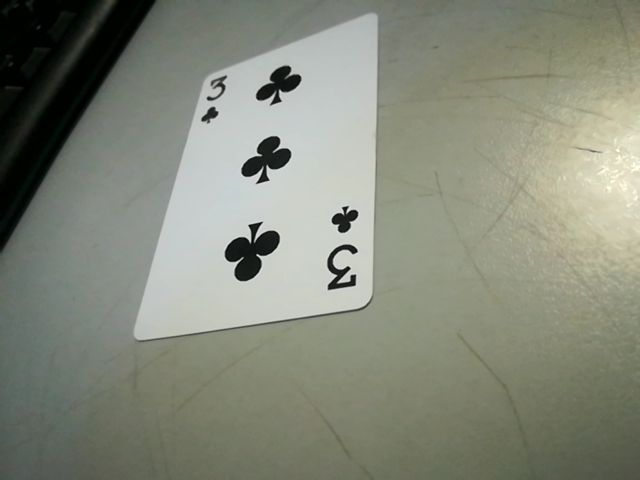mh 3: (320, 202, 373, 301)
